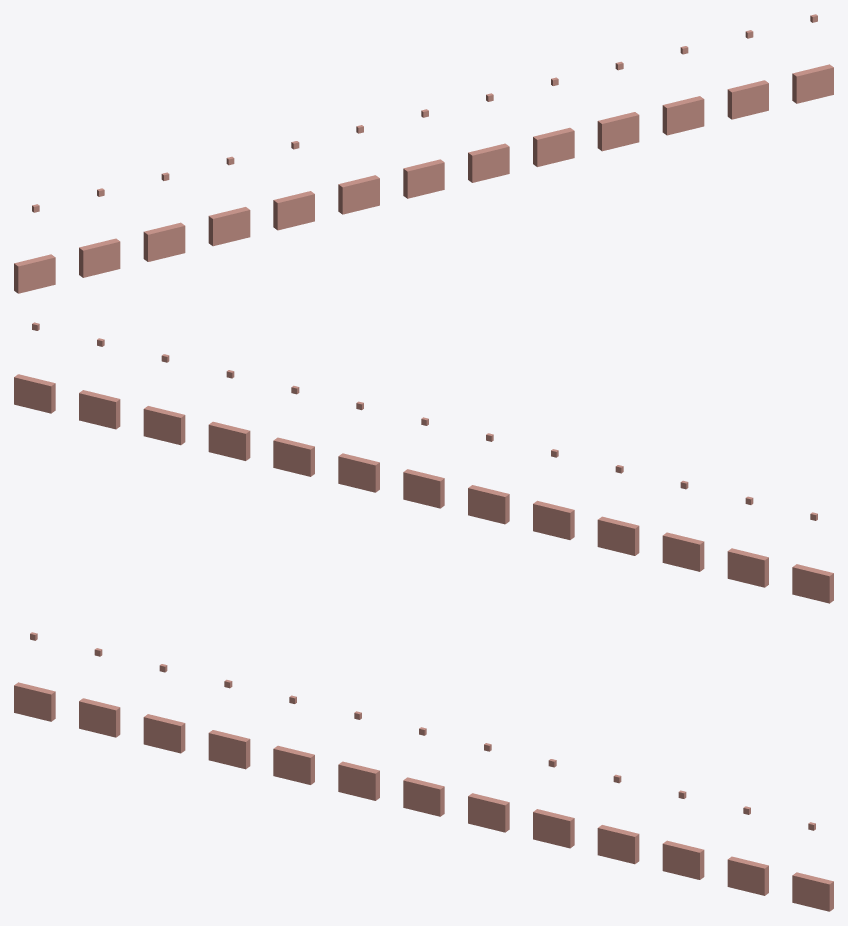
Rendered from SM_Int_Generationship_Hab_Vents.fbx.
The picture shows the model from 3 angles, top to bottom: view 1: azimuth 30°, elevation 25°; view 2: azimuth 150°, elevation 25°; view 3: azimuth 330°, elevation 25°; orthographic projection.
Parts seen in each view (by area): view 1: SM_Int_Generationship_Hab_Vents; view 2: SM_Int_Generationship_Hab_Vents; view 3: SM_Int_Generationship_Hab_Vents.
Part boxes in pixels (x1,y1,x2,y2): SM_Int_Generationship_Hab_Vents: [14, 14, 833, 293]; SM_Int_Generationship_Hab_Vents: [14, 322, 833, 603]; SM_Int_Generationship_Hab_Vents: [14, 632, 833, 911].
Bounding box in the file's own units: 1006 × 9.2 × 97.75.
